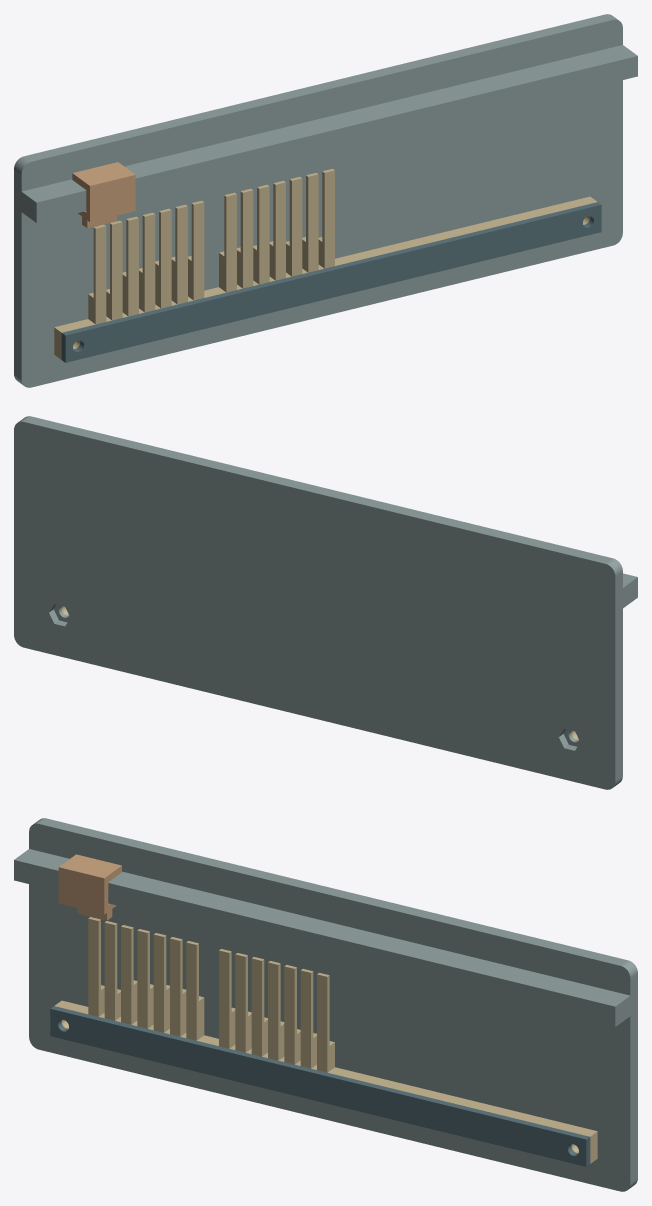
Rendered from S2_slider-assembly-view.glb.
The picture shows the model from 3 angles, top to bottom: view 1: azimuth 30°, elevation 25°; view 2: azimuth 150°, elevation 25°; view 3: azimuth 330°, elevation 25°; orthographic projection.
Visible parts, largest first — view 1: 0, 1, 2, 3; view 2: 0; view 3: 0, 1, 2, 3.
Boxes of the visible parts, x1,y1,x2,y2 form: 0: (14, 14, 637, 387); 1: (54, 168, 596, 359); 2: (61, 202, 601, 362); 3: (72, 162, 135, 228); 0: (14, 416, 637, 789); 0: (14, 818, 637, 1191); 1: (55, 917, 597, 1163); 2: (50, 1006, 590, 1166); 3: (58, 854, 121, 920).
Size of the model in its own units: 0.184 by 0.066 by 0.0143.
